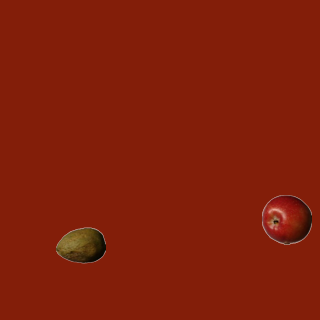Apple Braeburn: (261, 194, 311, 244)
Papaya: (55, 220, 105, 270)
